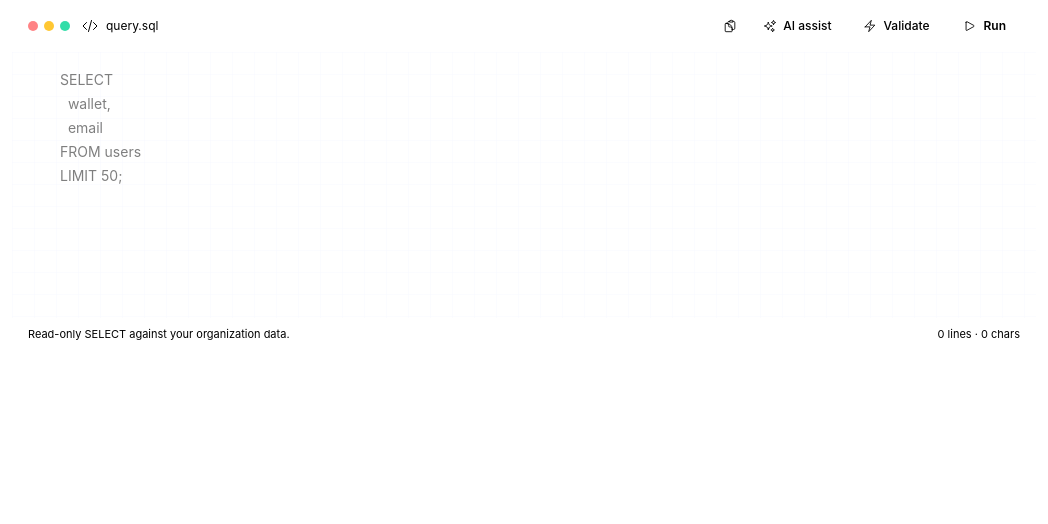
QueryTab › does not render the report view inline — reports live in the Reports tab
In the text box named "SQL query editor": (524,182) [12,52,1036,312], type "SELECT wallet, email FROM users LIMIT 1;"
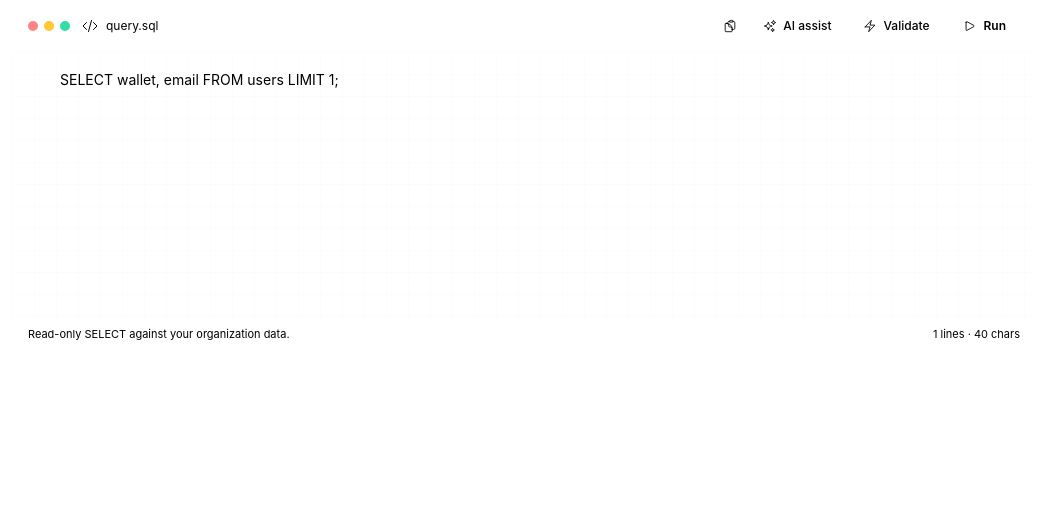
Click the button "Run": (985,26) [950,12,1020,40]
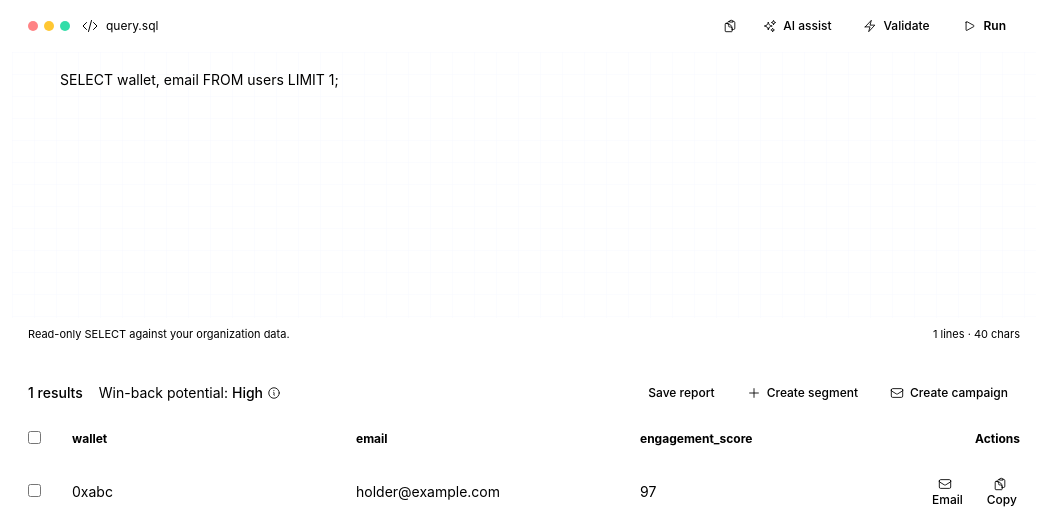
Expected: the button "Create segment" is shown, [735,378,870,406]
